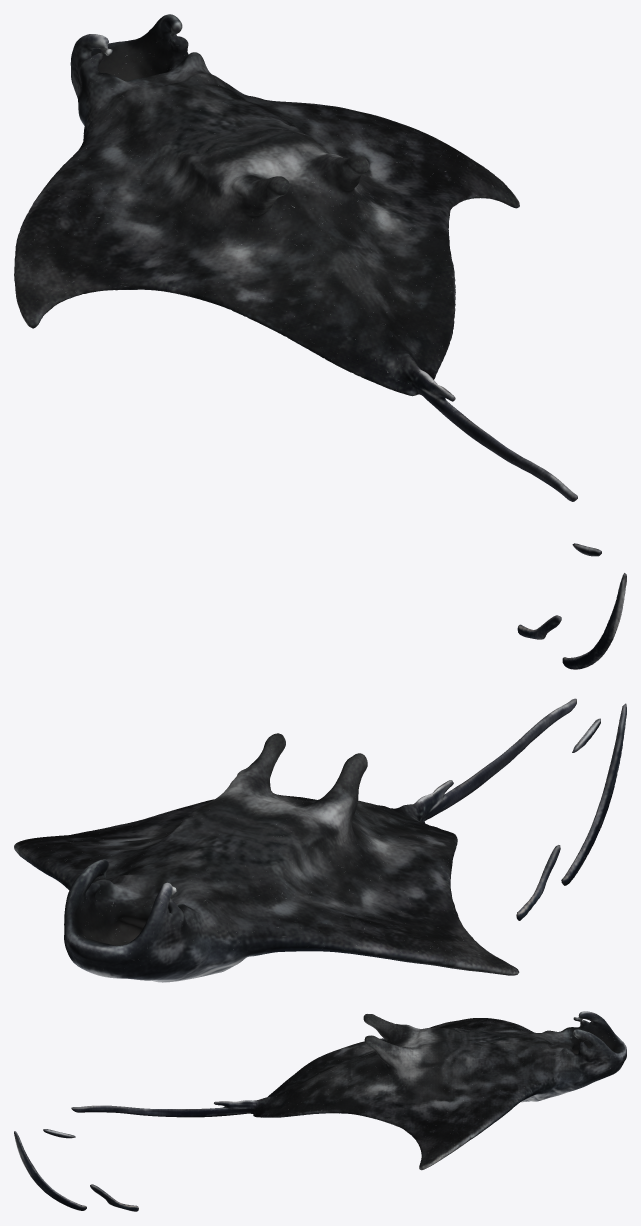
File: manta_raya.glb
3 views of the same model, one above another, from view 1: azimuth 30°, elevation 25°; view 2: azimuth 150°, elevation 25°; view 3: azimuth 270°, elevation 25° (orthographic). The views are drawn at different scales.
Parts seen in each view (by area): view 1: world; view 2: world; view 3: world.
Boxes of the visible parts, x1,y1,x2,y2 form: world: (14, 14, 626, 669); world: (14, 698, 626, 982); world: (14, 1011, 626, 1211).
Bounding box in the file's own units: 0.5372 × 0.345 × 1.
Materials: 1 (1 with a texture image).
